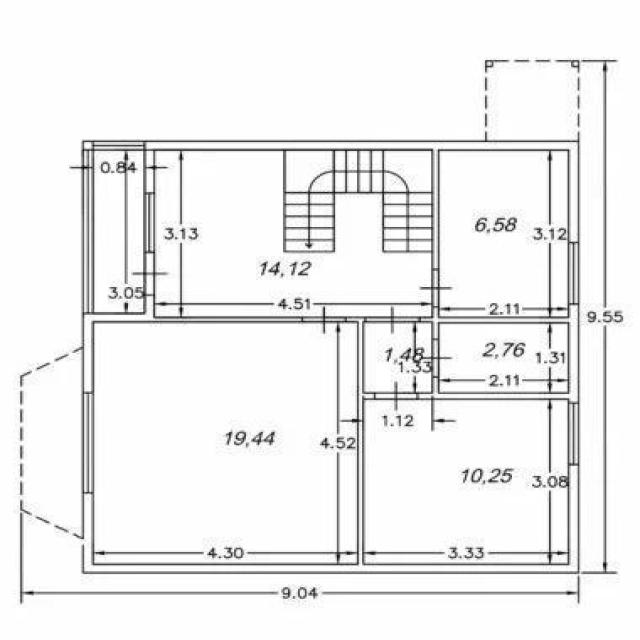Corridors: (441, 325, 568, 392), (94, 151, 143, 311), (367, 324, 431, 392)
Doors: (131, 252, 170, 295), (365, 304, 420, 334), (374, 380, 419, 413), (417, 269, 452, 307), (303, 305, 347, 335), (420, 339, 453, 378)
LBwalls: (82, 465, 579, 574), (145, 140, 580, 242), (82, 295, 155, 393), (569, 305, 579, 403), (144, 150, 155, 192), (82, 139, 93, 150)
Offices: (96, 324, 356, 564), (157, 151, 432, 315), (365, 400, 567, 564), (439, 151, 568, 315)
Stairs: (283, 150, 433, 253)
Walls: (346, 316, 375, 565), (420, 304, 569, 340), (418, 378, 569, 400), (154, 315, 303, 323), (432, 150, 439, 269)
Windows: (82, 150, 93, 313), (82, 392, 95, 493), (568, 402, 579, 465), (569, 242, 579, 305), (144, 192, 154, 253), (93, 140, 146, 150)
